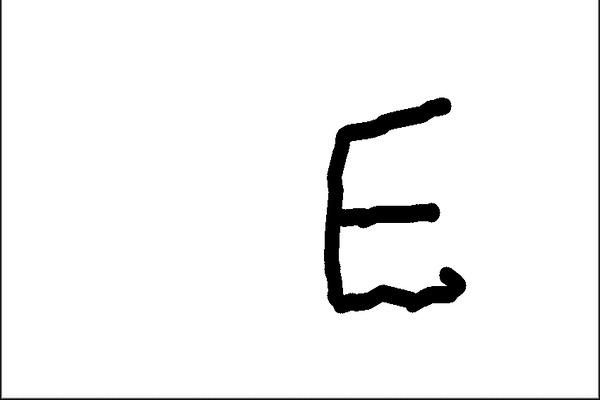E: (316, 91, 467, 315)
